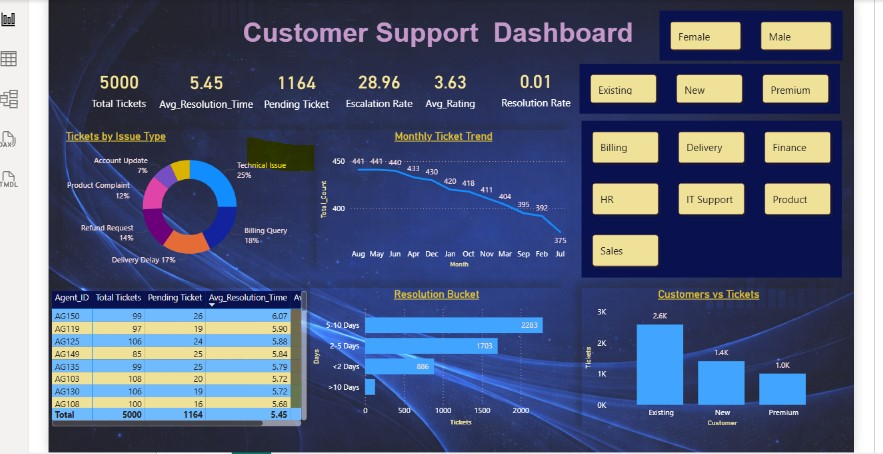

The dashboard page shown, as its layout file describes it:
{"tool":"powerbi","page":{"name":"Page 1","canvas":[1280,720],"ordinal":0},"visuals":[{"type":"card","fields":{"Values":["customer_support_analytics.Total Tickets"]},"box":[0,98.3,223,81.3],"z":0},{"type":"card","fields":{"Values":["customer_support_analytics.Resolution Rate"]},"box":[667.1,98.3,217.3,79.4],"z":1000},{"type":"donutChart","title":"Tickets by Issue Type","fields":{"Category":["customer_support_analytics.Issue_Type"],"Y":["CountNonNull(customer_support_analytics.Ticket_ID)"]},"box":[22,206,404,224],"z":2000},{"type":"clusteredBarChart","title":"Resolution Bucket","fields":{"Category":["customer_support_analytics.Resolution Bucket"],"Y":["customer_support_analytics.Total Tickets"]},"box":[415.8,457.3,404.4,224.9],"z":3000},{"type":"columnChart","title":"Customers vs Tickets","fields":{"Category":["customer_support_analytics.Customer_Type"],"Y":["customer_support_analytics.Total Tickets"]},"box":[848.5,457.3,404.4,224.9],"z":4000},{"type":"pivotTable","title":"Attrition by Agegroup","fields":{"Rows":["customer_support_analytics.Agent_ID"],"Values":["customer_support_analytics.Total Tickets","customer_support_analytics.Pending Ticket","customer_support_analytics.Avg_Resolution_Time","customer_support_analytics.Avg_Rating"]},"box":[0,457.3,415.8,224.9],"z":5000},{"type":"lineChart","title":"Monthly Ticket Trend","fields":{"Category":["customer_support_analytics.Month"],"Y":["CountNonNull(customer_support_analytics.Ticket_ID)"]},"box":[426,206,404,224],"z":6000},{"type":"textbox","box":[292.9,22.7,653.9,73.7],"z":7000},{"type":"card","fields":{"Values":["customer_support_analytics.Escalation Rate"]},"box":[415.8,98.3,221.1,81.3],"z":8000},{"type":"card","fields":{"Values":["customer_support_analytics.Resolution_Time"]},"box":[139.8,100.2,221.1,81.3],"z":9000},{"type":"card","fields":{"Values":["customer_support_analytics.Pending Ticket"]},"box":[281.6,100.2,224.9,81.3],"z":10000},{"type":"card","fields":{"Values":["customer_support_analytics.Avg_Rating"]},"box":[527.2,98.3,224.9,81.3],"z":11000},{"type":"advancedSlicerVisual","fields":{"Values":["customer_support_analytics.Gender"]},"box":[971.3,17,291,79.4],"z":12000},{"type":"advancedSlicerVisual","fields":{"Values":["customer_support_analytics.Customer_Type"]},"box":[844.7,102,413.9,79.4],"z":13000},{"type":"advancedSlicerVisual","fields":{"Values":["customer_support_analytics.Department"]},"box":[848.5,192.8,413.9,249.5],"z":14000}]}

Visuals, with their boxes on the page's 1280x720 design canvas (x1, y1, x2, y2). These are canvas units, not pixel positions in the 883x454 screenshot, which may show the page scaled, cropped or inside an application window:
card - customer_support_analytics.Total Tickets: 0,98,223,180
card - customer_support_analytics.Resolution Rate: 667,98,884,178
"Tickets by Issue Type" donutChart: 22,206,426,430
"Resolution Bucket" clusteredBarChart: 416,457,820,682
"Customers vs Tickets" columnChart: 848,457,1253,682
"Attrition by Agegroup" pivotTable: 0,457,416,682
"Monthly Ticket Trend" lineChart: 426,206,830,430
textbox: 293,23,947,96
card - customer_support_analytics.Escalation Rate: 416,98,637,180
card - customer_support_analytics.Resolution_Time: 140,100,361,182
card - customer_support_analytics.Pending Ticket: 282,100,506,182
card - customer_support_analytics.Avg_Rating: 527,98,752,180
advancedSlicerVisual - customer_support_analytics.Gender: 971,17,1262,96
advancedSlicerVisual - customer_support_analytics.Customer_Type: 845,102,1259,181
advancedSlicerVisual - customer_support_analytics.Department: 848,193,1262,442
